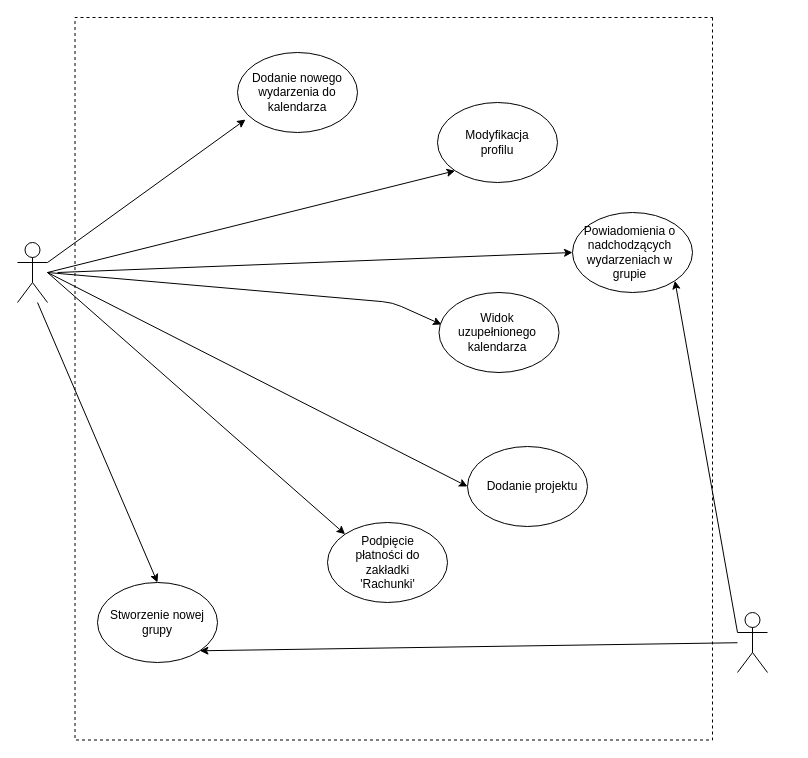
This 808x758 diagram has some shape labels left out. The shapes that lost their labels are listed below. From the top down, each one's box as (x1, y1, x2, y2) in pixels, then its label:
(16, 242, 48, 302): Actor
(736, 612, 768, 672): Członek grupy
